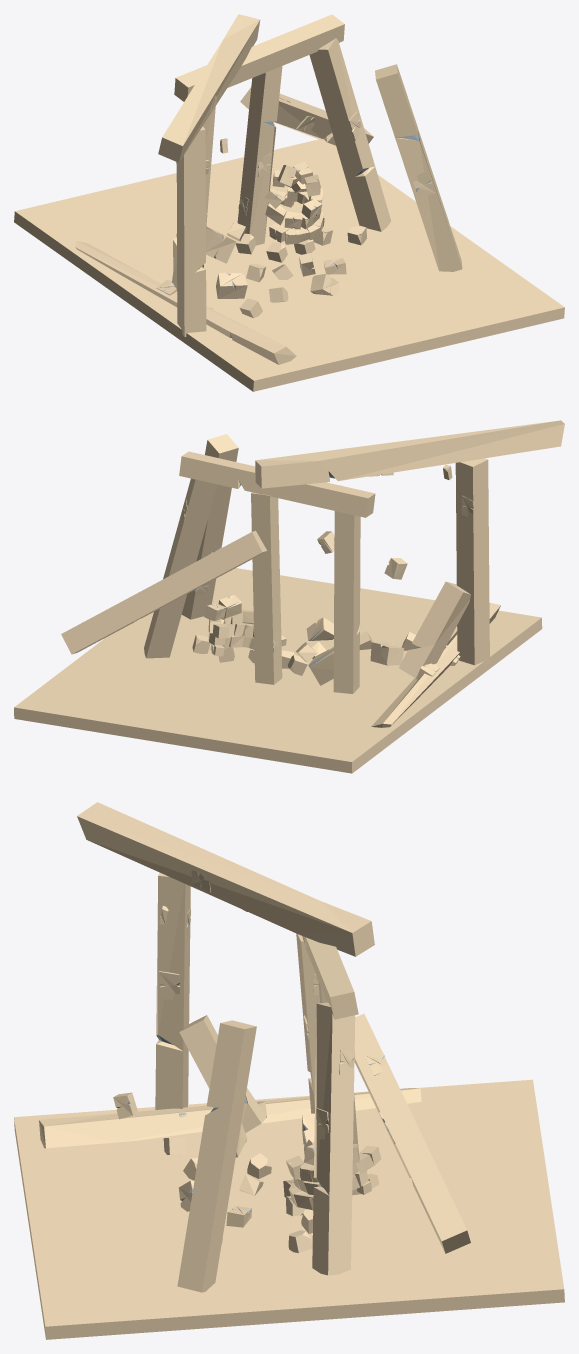
The model's file is Ruin.glb.
The picture shows the model from 3 angles, top to bottom: view 1: azimuth 30°, elevation 25°; view 2: azimuth 150°, elevation 25°; view 3: azimuth 270°, elevation 25°; orthographic projection. The views are drawn at different scales.
Parts seen in each view (by area): view 1: group557922950, group1685161424, group1910399087, group570815363, group1683706517, group2008784608, group185380123, group501328509, group2005760408, group183228893, group758556863, group656921815 (+2 smaller); view 2: group557922950, group2008784608, group1910399087, group183228893, group1683706517, group794253704, group185380123, group1685161424, group1365211813, group570815363, group501328509, group2005760408 (+3 smaller); view 3: group557922950, group2008784608, group1685161424, group570815363, group1910399087, group183228893, group2005760408, group501328509, group185380123, group1365211813, group794253704.
Boxes of the visible parts, bbox=[...] form: group557922950: bbox=[14, 139, 564, 391]; group1685161424: bbox=[309, 38, 390, 231]; group1910399087: bbox=[176, 126, 206, 336]; group570815363: bbox=[375, 64, 462, 271]; group1683706517: bbox=[237, 66, 282, 245]; group2008784608: bbox=[158, 14, 260, 162]; group185380123: bbox=[174, 14, 344, 101]; group501328509: bbox=[264, 161, 324, 244]; group2005760408: bbox=[75, 241, 296, 364]; group183228893: bbox=[240, 87, 373, 145]; group758556863: bbox=[216, 272, 247, 298]; group656921815: bbox=[206, 226, 236, 263]; group557922950: bbox=[14, 568, 542, 773]; group2008784608: bbox=[255, 420, 564, 488]; group1910399087: bbox=[455, 458, 489, 665]; group183228893: bbox=[61, 530, 266, 654]; group1683706517: bbox=[251, 492, 282, 684]; group794253704: bbox=[333, 511, 360, 693]; group185380123: bbox=[179, 451, 375, 517]; group1685161424: bbox=[144, 478, 217, 658]; group1365211813: bbox=[399, 581, 470, 678]; group570815363: bbox=[181, 434, 238, 619]; group501328509: bbox=[204, 595, 254, 656]; group2005760408: bbox=[371, 602, 500, 727]; group557922950: bbox=[14, 1079, 564, 1339]; group2008784608: bbox=[77, 802, 374, 956]; group1685161424: bbox=[312, 1002, 355, 1275]; group570815363: bbox=[177, 1020, 256, 1292]; group1910399087: bbox=[155, 873, 190, 1109]; group183228893: bbox=[354, 1014, 470, 1253]; group2005760408: bbox=[39, 1088, 421, 1148]; group501328509: bbox=[286, 1141, 381, 1210]; group185380123: bbox=[302, 936, 358, 1019]; group1365211813: bbox=[179, 1015, 266, 1132]; group794253704: bbox=[296, 933, 319, 1113].
Bounding box in the file's own units: 6.11 × 3.95 × 6.31.
